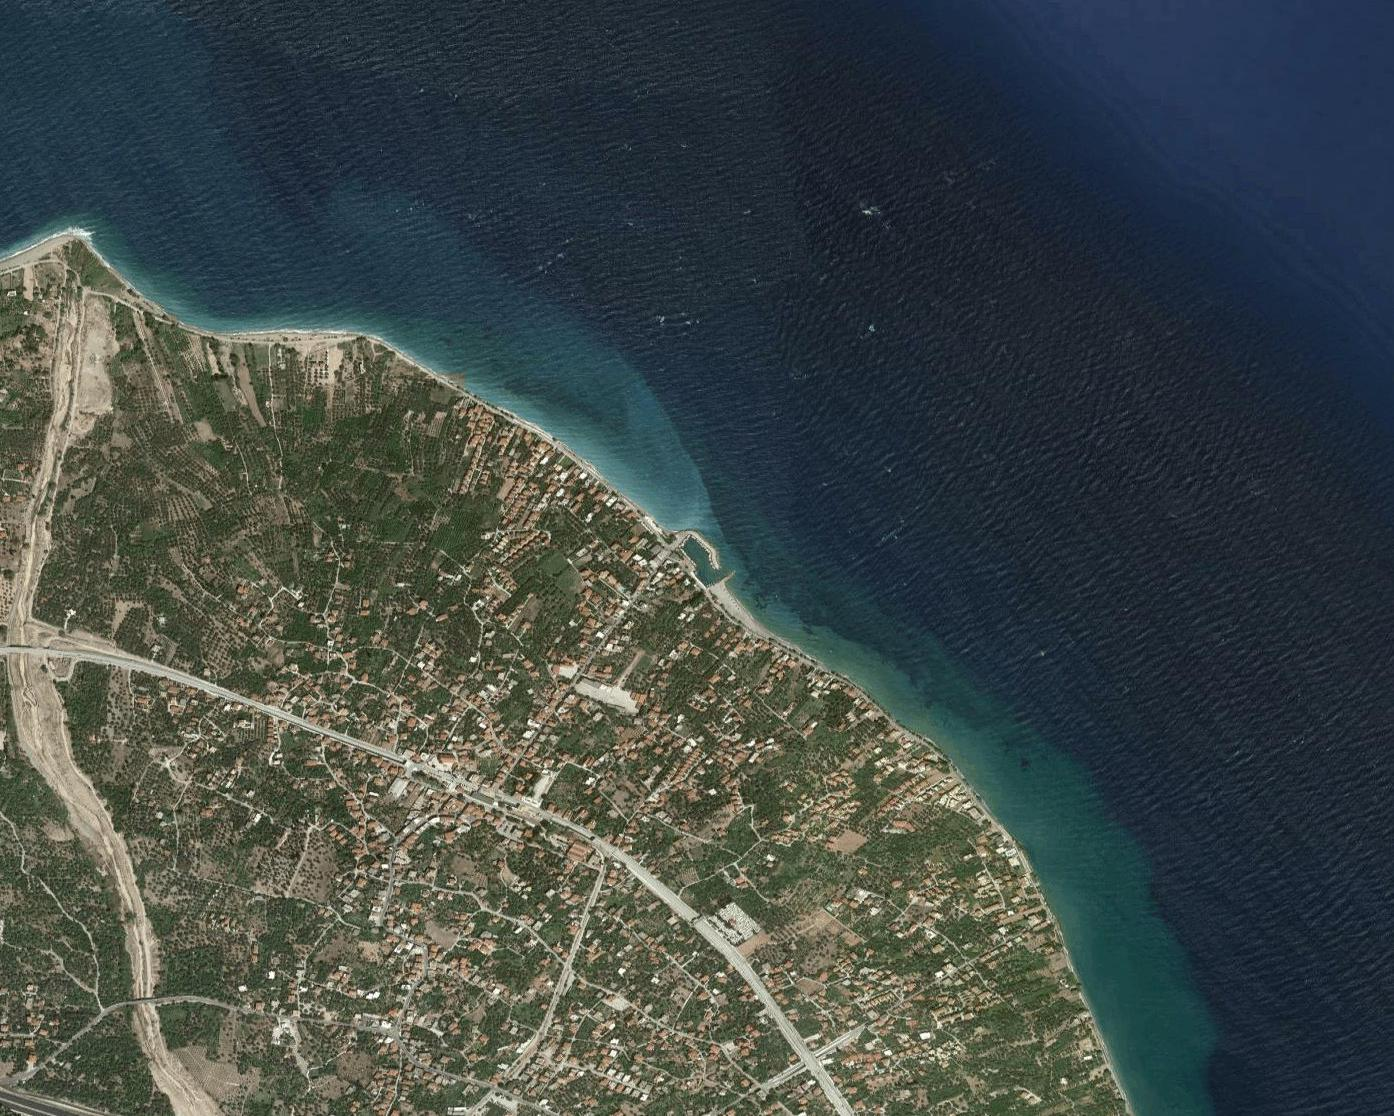harbor: (667, 519, 733, 594)
